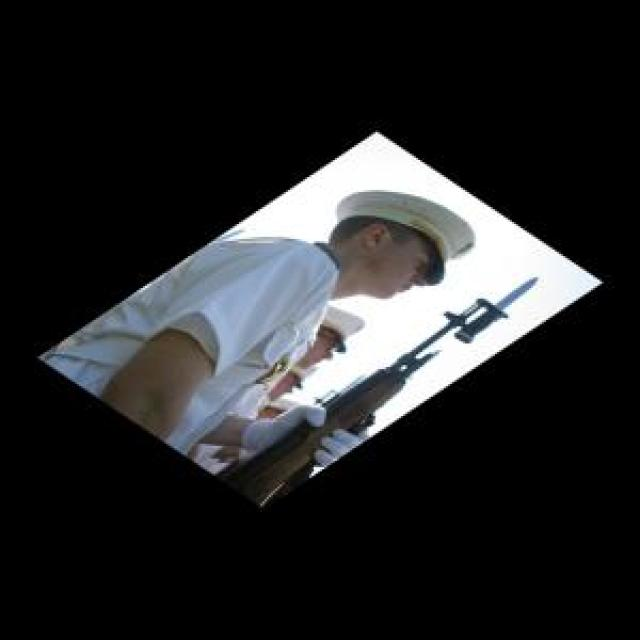knife: (450, 269, 545, 336)
